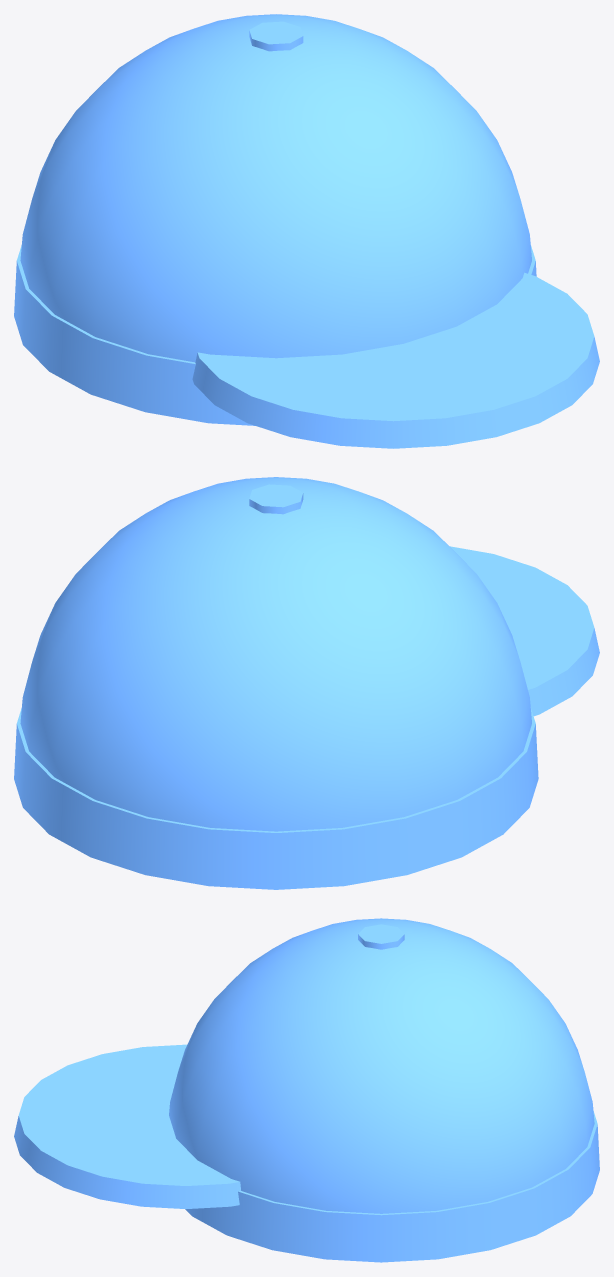
File: bone.glb
3 renders of one model, top to bottom at view 1: azimuth 30°, elevation 25°; view 2: azimuth 150°, elevation 25°; view 3: azimuth 270°, elevation 25°, orthographic. The views are drawn at different scales.
Parts seen in each view (by area): view 1: bone; view 2: bone; view 3: bone.
Part boxes in pixels (x1,y1,x2,y2): bone: [14, 14, 599, 448]; bone: [14, 477, 599, 889]; bone: [14, 918, 599, 1262].
Bounding box in the file's own units: 0.94 × 0.56 × 1.26.
